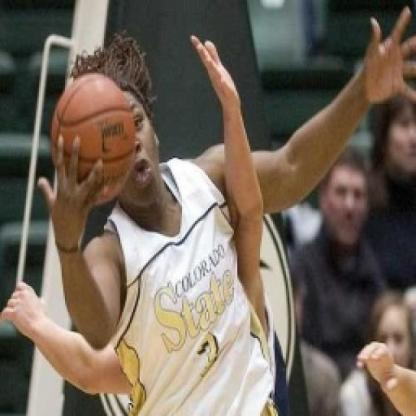basketball: (52, 77, 136, 191)
